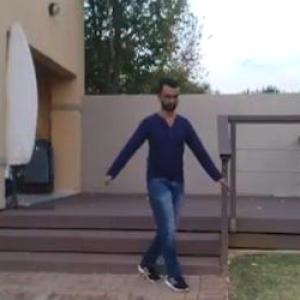land: (92, 88, 220, 296)
